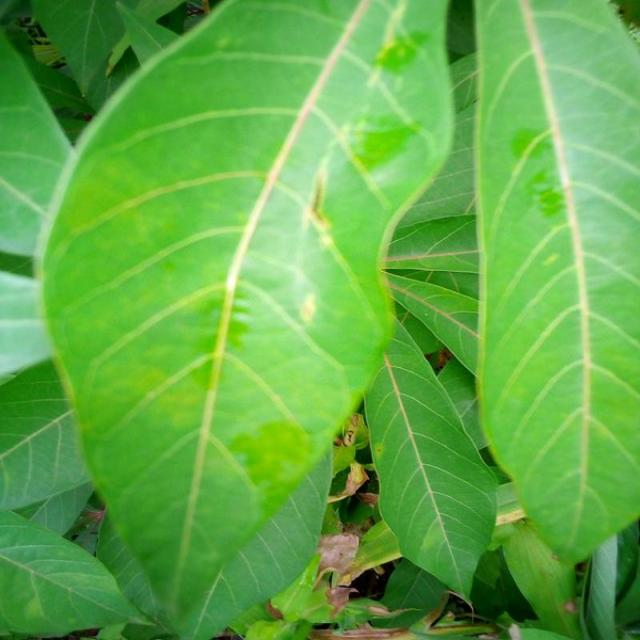cassava leaf: (36, 0, 456, 638), (472, 0, 639, 566), (362, 313, 498, 606)
